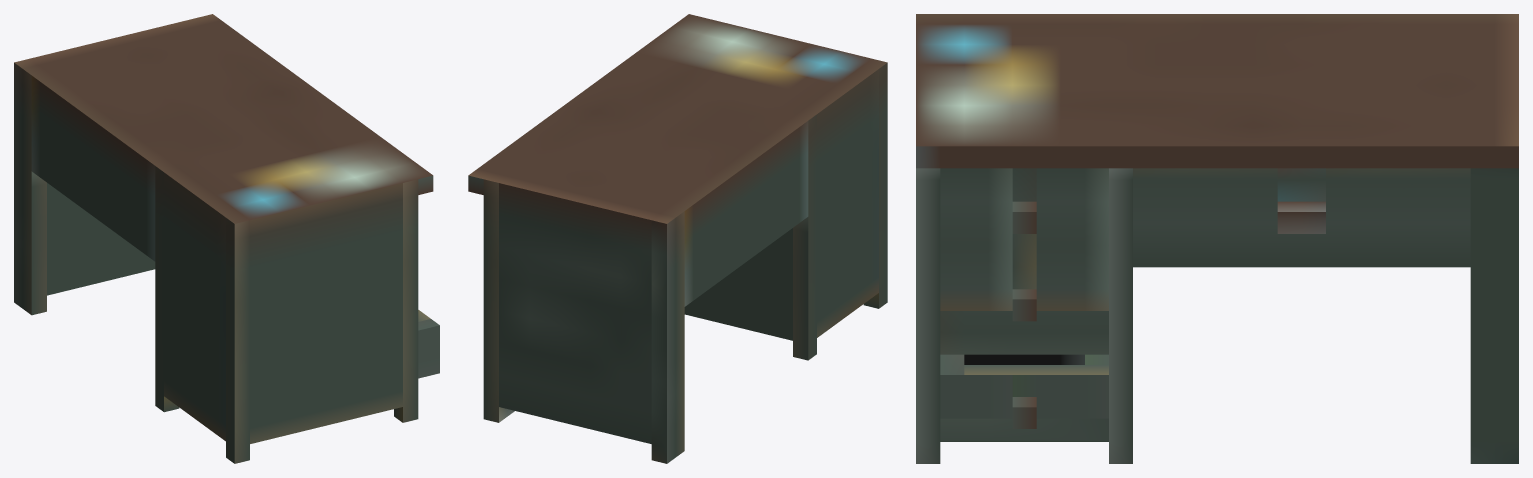
Rendered from OfficeDeskDarker_00.fbx.
3 views of the same model, side by side, from view 1: azimuth 30°, elevation 25°; view 2: azimuth 150°, elevation 25°; view 3: azimuth 270°, elevation 25° (orthographic). The views are drawn at different scales.
Parts seen in each view (by area): view 1: OfficeDeskDarker_00; view 2: OfficeDeskDarker_00; view 3: OfficeDeskDarker_00.
Boxes of the visible parts, box(x1,y1,x2,y2) form: OfficeDeskDarker_00: box(14, 14, 439, 463); OfficeDeskDarker_00: box(468, 14, 887, 463); OfficeDeskDarker_00: box(916, 14, 1518, 463).
Size of the model in its own units: 75 by 125 by 75.
1 material, 1 textured.
